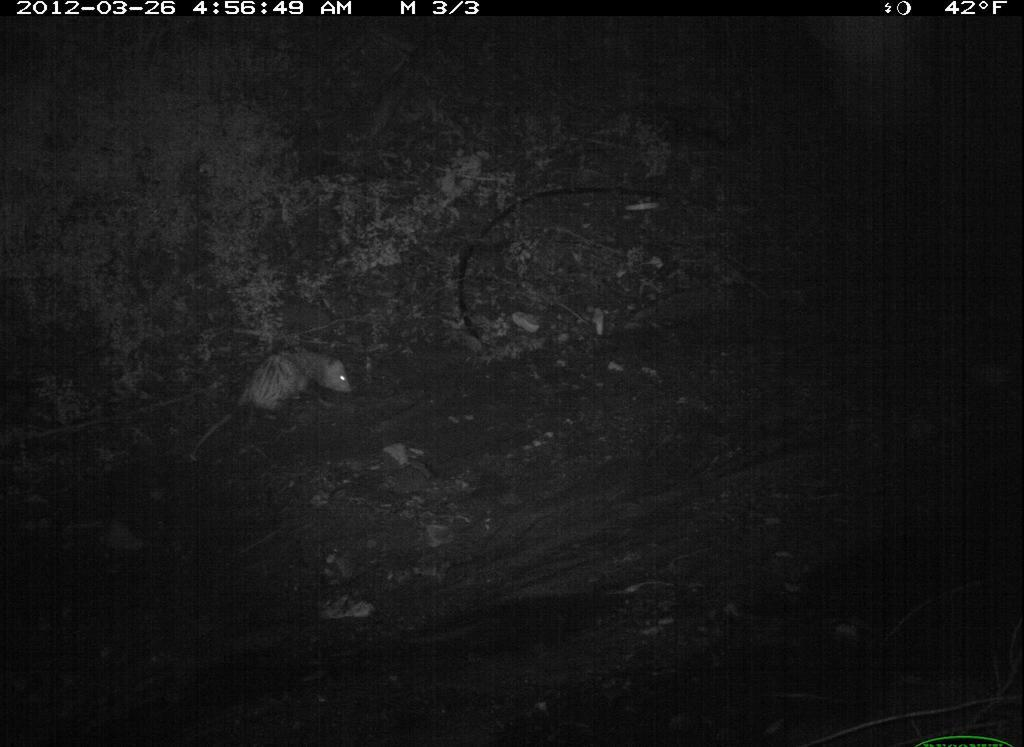opossum: (189, 344, 355, 465)
